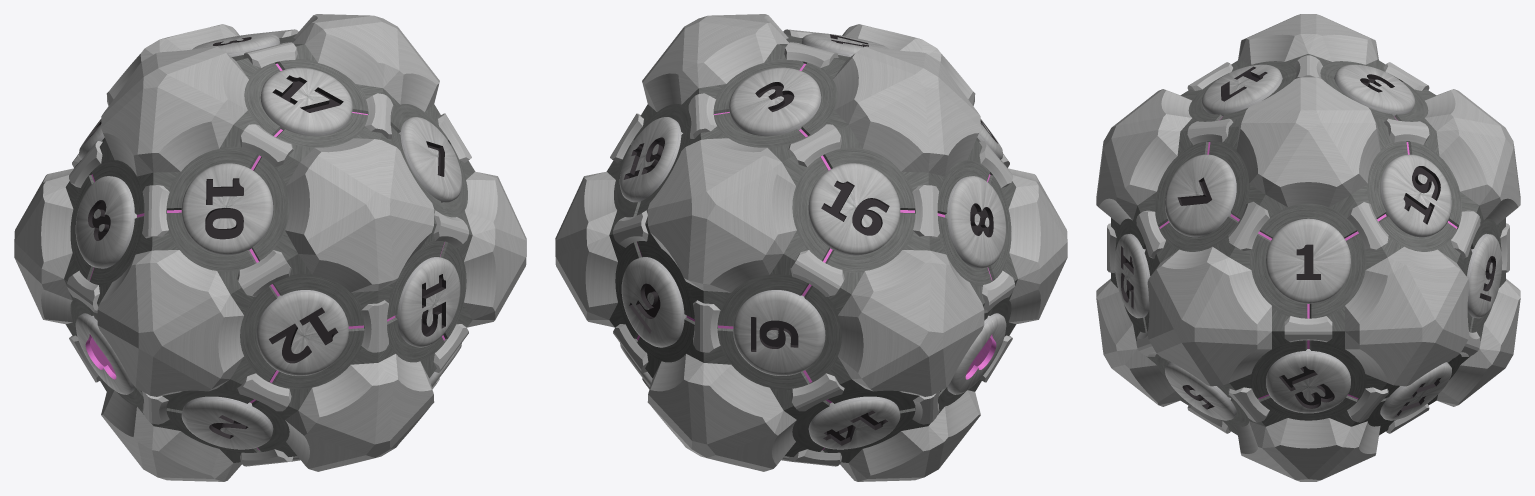
The model's file is wcube_d20.glb.
The picture shows the model from 3 angles, left to right: view 1: azimuth 30°, elevation 25°; view 2: azimuth 150°, elevation 25°; view 3: azimuth 270°, elevation 25°; orthographic projection. The views are drawn at different scales.
Parts seen in each view (by area): view 1: d20_heart.001; view 2: d20_heart.001; view 3: d20_heart.001.
Boxes of the visible parts, bbox=[...] form: d20_heart.001: bbox=[14, 14, 526, 481]; d20_heart.001: bbox=[555, 14, 1067, 481]; d20_heart.001: bbox=[1096, 14, 1520, 481].
Size of the model in its own units: 170 by 170 by 170.
Materials: 1 (1 with a texture image).
